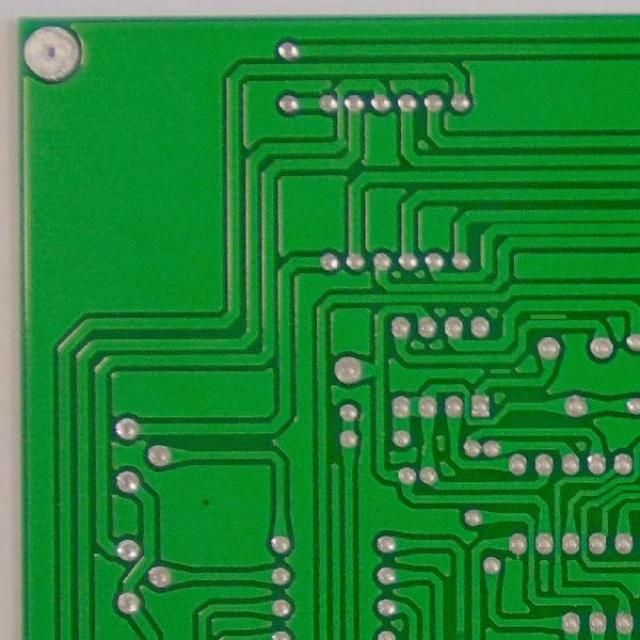spurious_copper: (528, 306, 569, 325), (486, 364, 513, 375)
